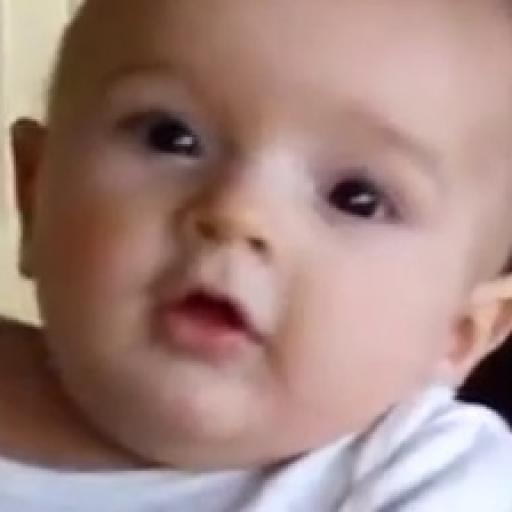Autism: (55, 0, 512, 503)
